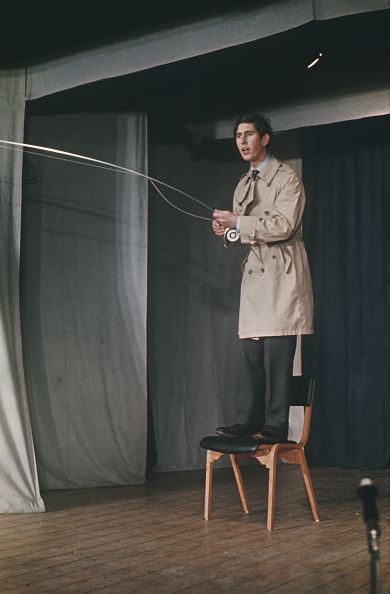em pe: (194, 105, 315, 444)
